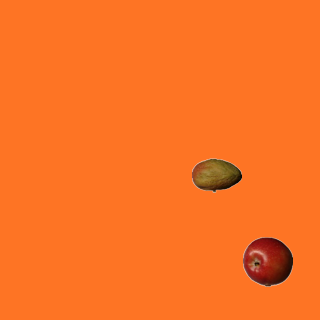Apple Braeburn: (242, 236, 292, 286)
Papaya: (191, 150, 241, 200)
